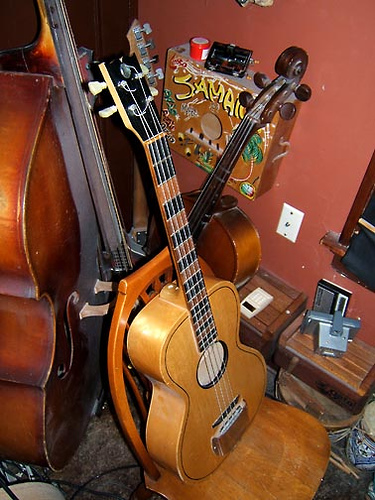guitar: (91, 54, 267, 488)
